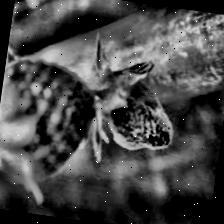Gray Mold: (81, 37, 185, 172)
